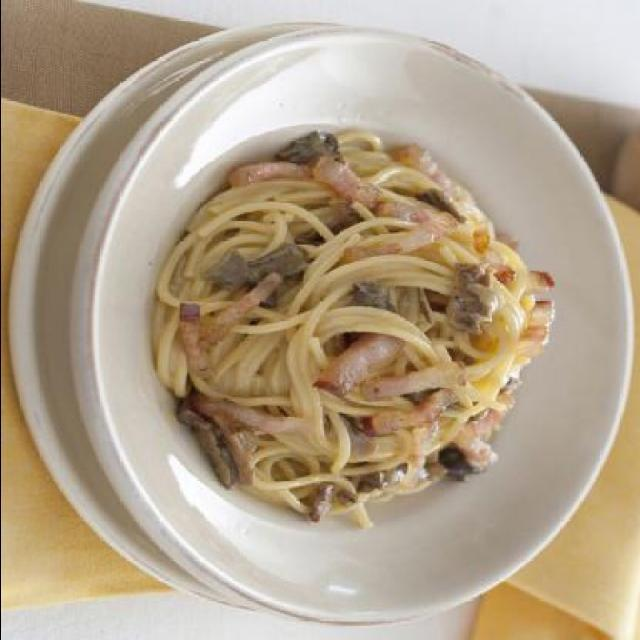Pasta with carbonara sauce: (126, 128, 576, 548)
